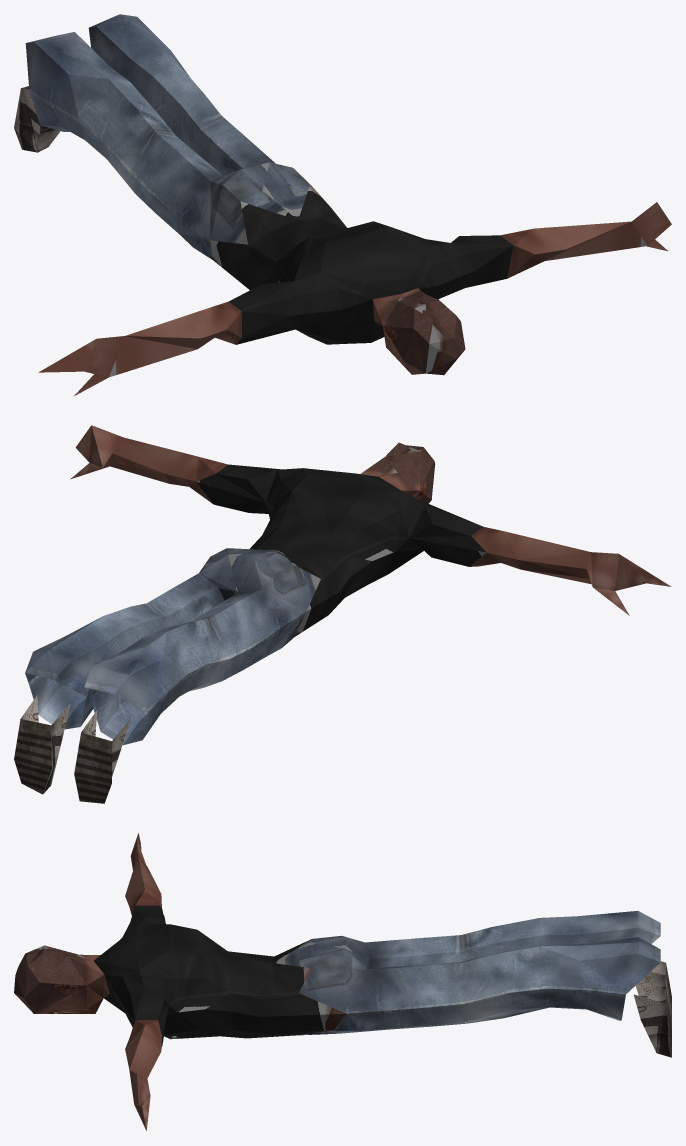
File: tomdrinman4_3klow_wtf.obj
3 renders of one model, top to bottom at view 1: azimuth 30°, elevation 25°; view 2: azimuth 150°, elevation 25°; view 3: azimuth 270°, elevation 25°, orthographic. The views are drawn at different scales.
Parts seen in each view (by area): view 1: group1; view 2: group1; view 3: group1.
Boxes of the visible parts, x1,y1,x2,y2 form: group1: (14,14,671,395); group1: (14,425,671,803); group1: (14,833,671,1130).
Bounding box in the file's own units: 621 × 127 × 647.
